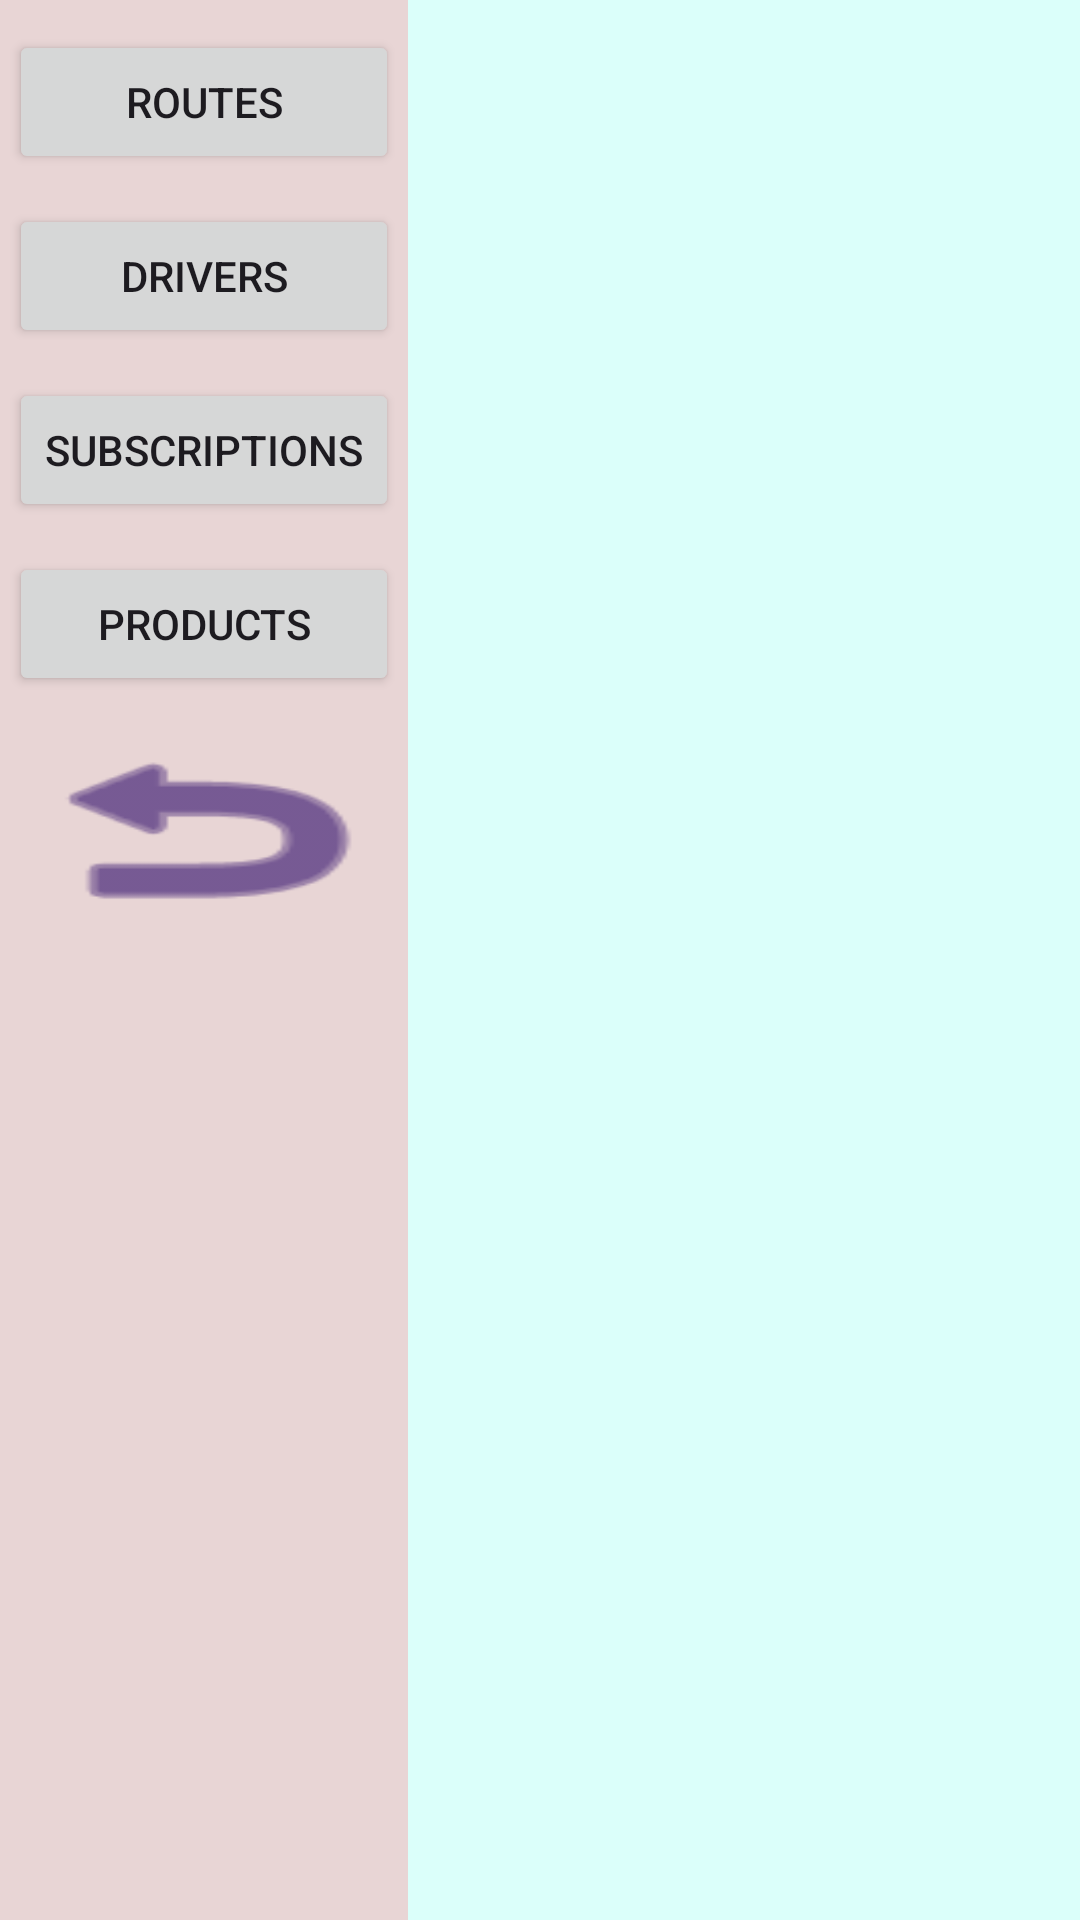

Where to tap for icons on this 1080*1920 app screen, as [x,y]:
revert: [209,831]
